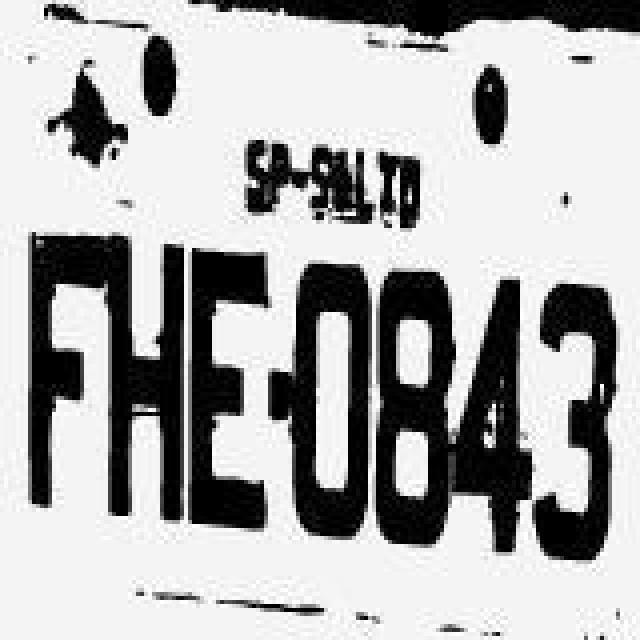3: (532, 258, 620, 566)
4: (452, 258, 540, 558)
8: (374, 248, 458, 552)
E: (180, 232, 276, 536)
F: (22, 214, 106, 514)
H: (104, 226, 184, 526)
O: (290, 240, 374, 544)
